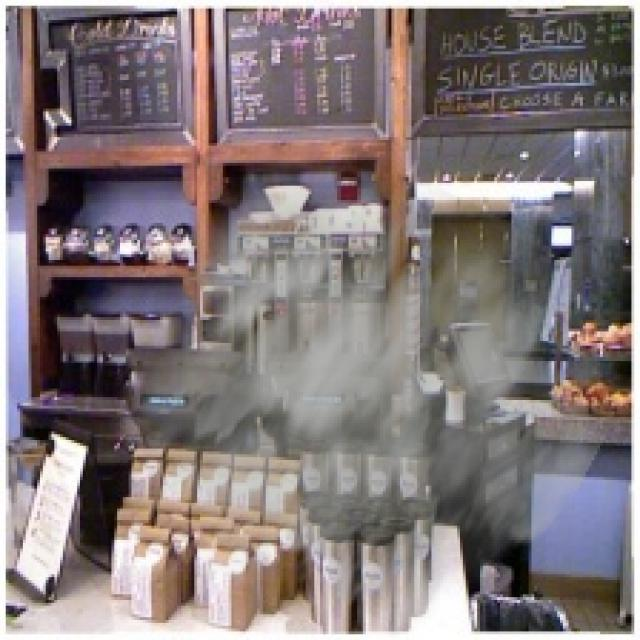smoke: (106, 109, 637, 637)
